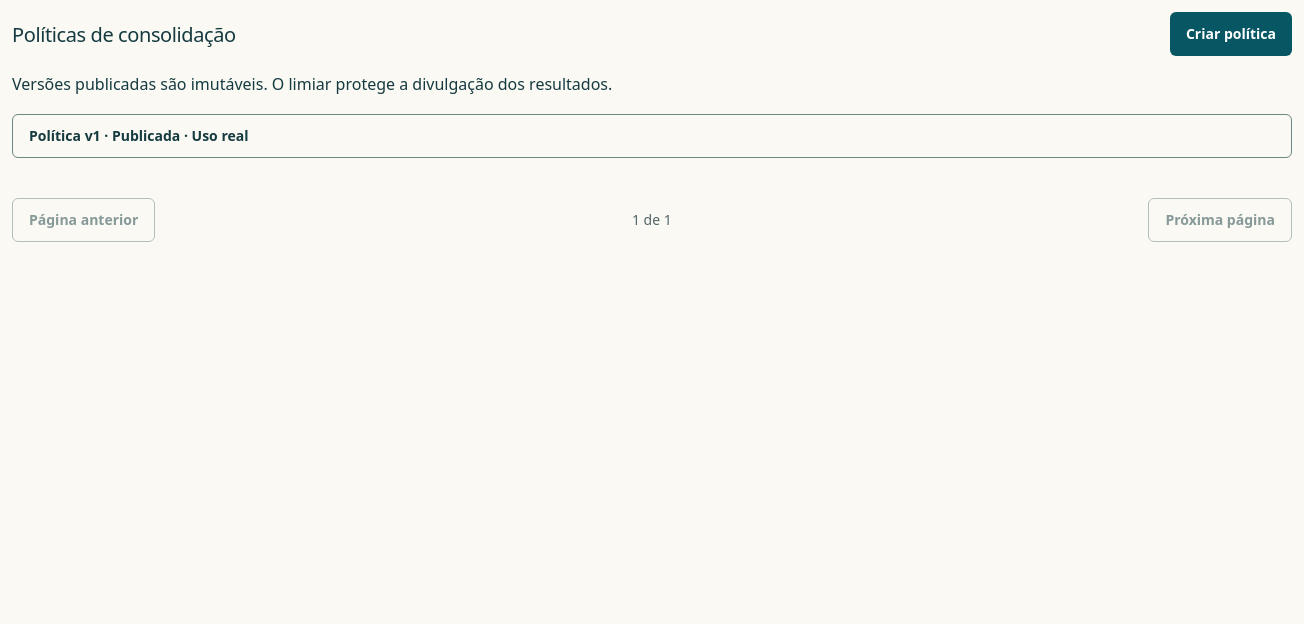
Scenario: versão publicada é somente leitura e fork conserva revisão no pedido
Click the button "Política v1 · Publicada · Uso real" at (61,135), box [12,114,1292,158]
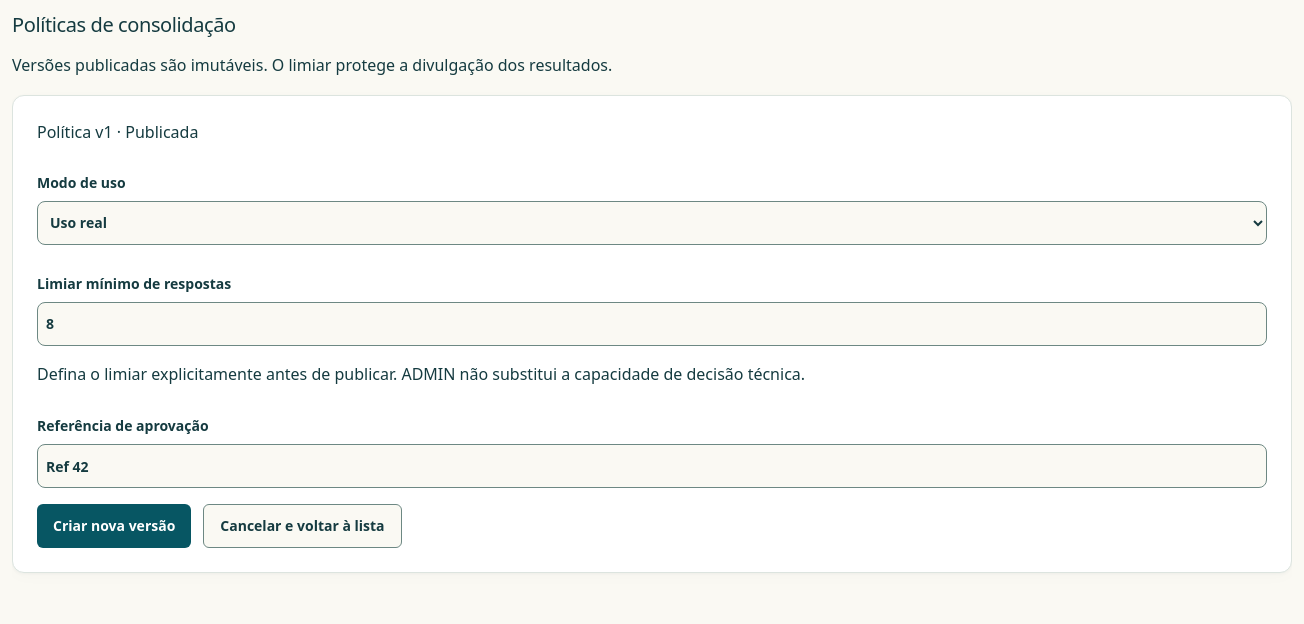
Check: the dropdown labelled "Modo de uso" is disabled, box [37,201,1267,245]
Check: the field labelled "Referência de aprovação" is disabled, box [37,444,1267,488]
Click the button "Criar nova versão" at (114,526), box [37,504,191,548]
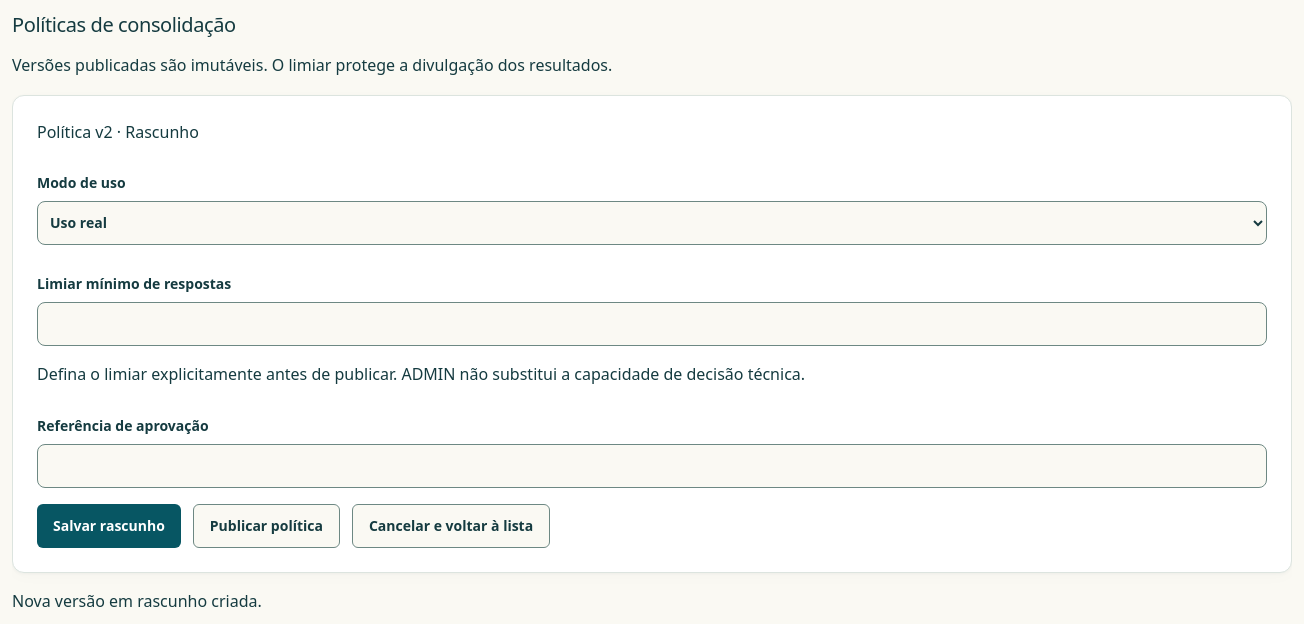
Check: the heading "Política v2 · Rascunho" is shown, box [37,121,199,143]
Check: the field labelled "Referência de aprovação" is empty, box [37,444,1267,488]
